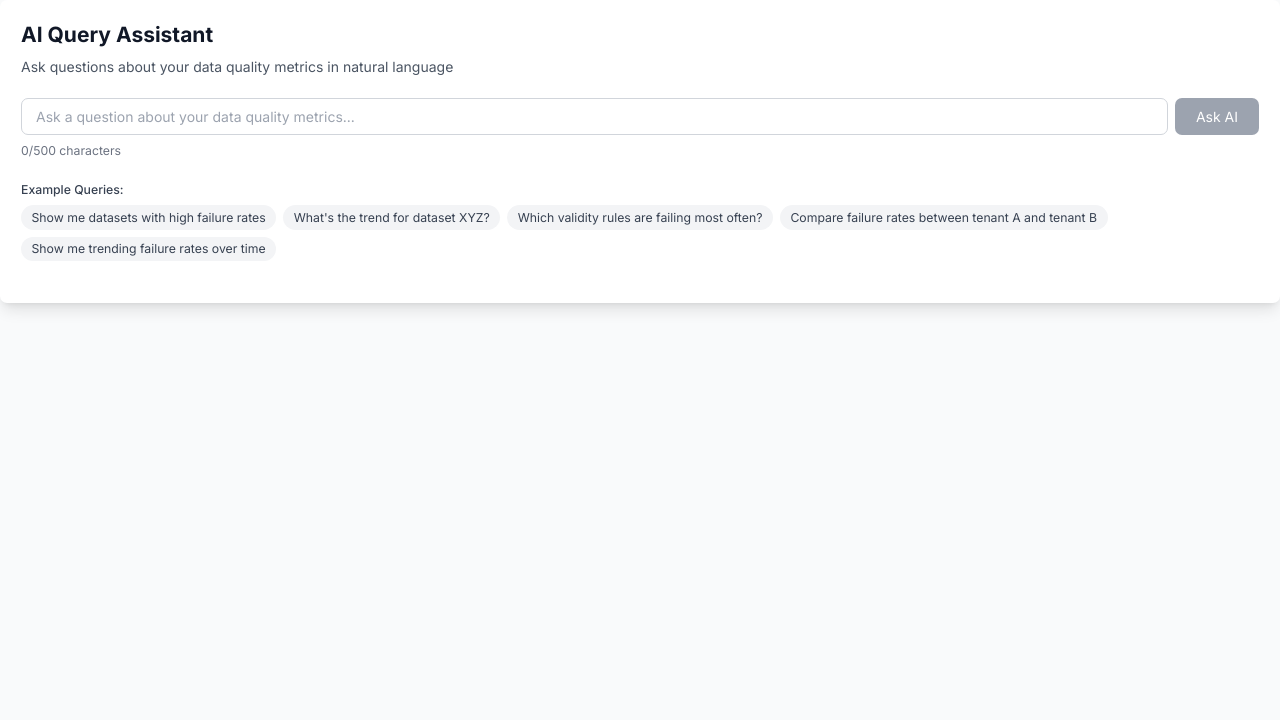
Test: AIQuerySection › handles keyboard Enter key to submit query
Type "Test query" into the field with placeholder "Ask a question about your data quality metrics..." at (594, 116), box [21,98,1168,135]
Then press Enter
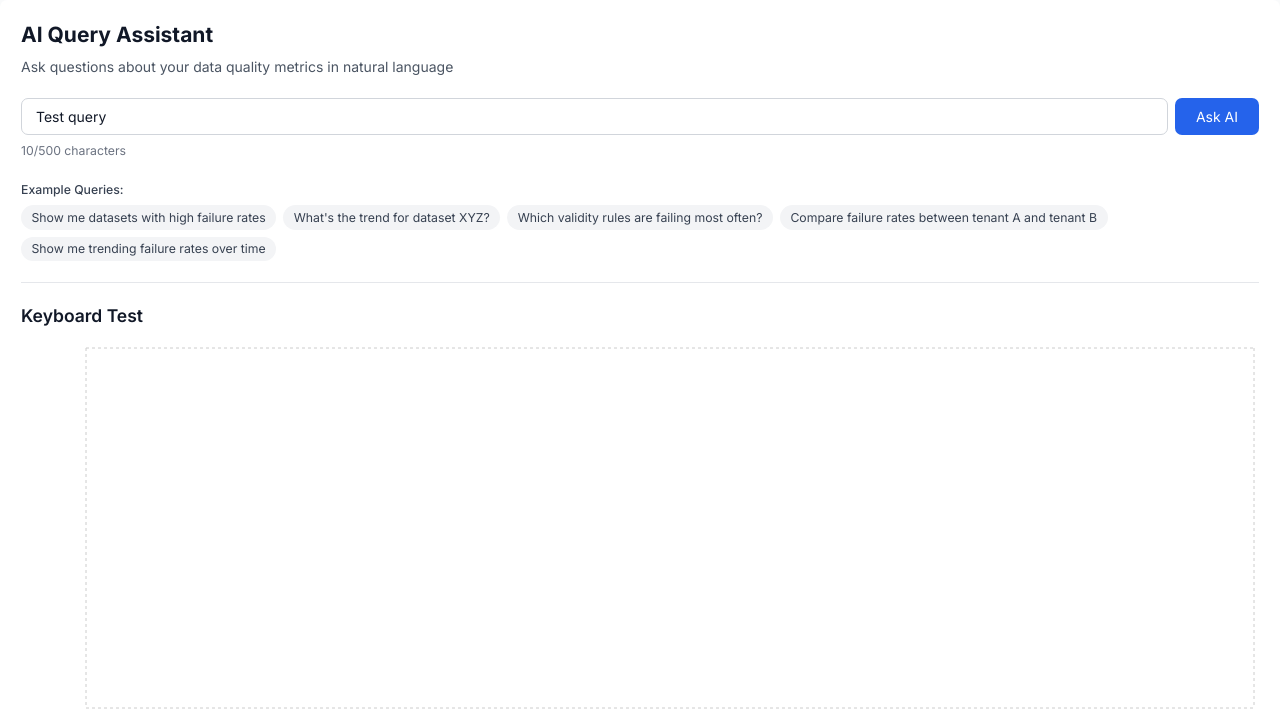
Expected: the heading "Keyboard Test" is shown, [21,305,143,326]
